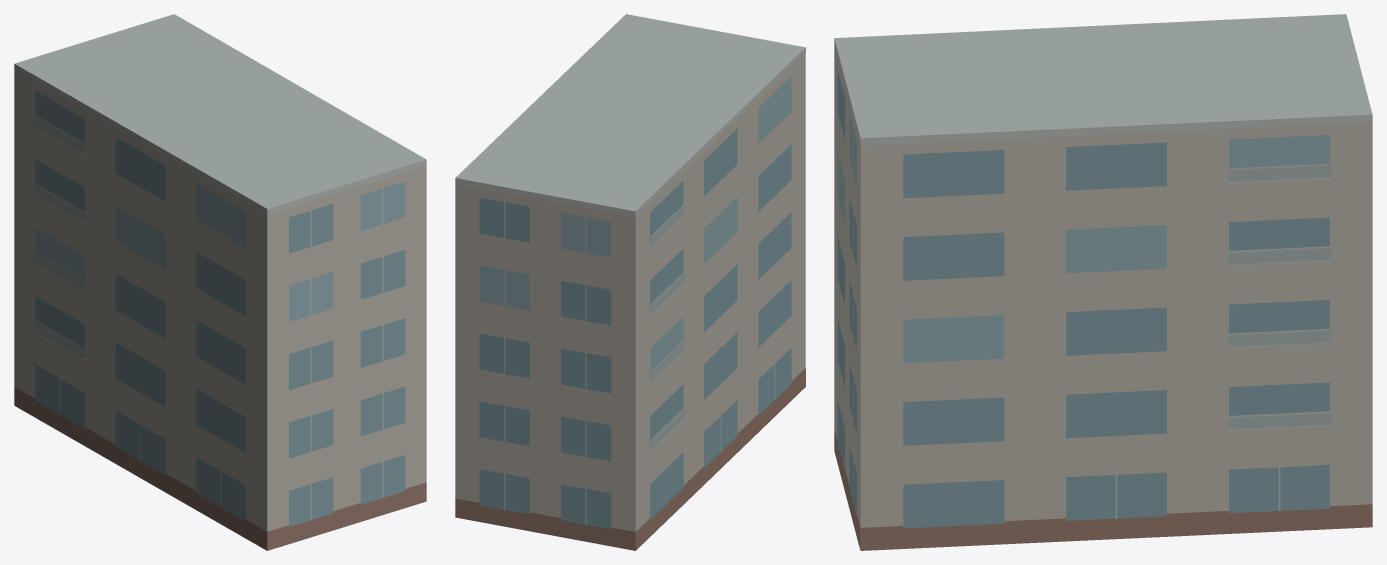
The model's file is survey-upis-32636855.glb.
The picture shows the model from 3 angles, left to right: view 1: azimuth 30°, elevation 25°; view 2: azimuth 150°, elevation 25°; view 3: azimuth 270°, elevation 25°; orthographic projection. The views are drawn at different scales.
Visible parts, largest first — view 1: survey-upis-32636855.tmp; view 2: survey-upis-32636855.tmp; view 3: survey-upis-32636855.tmp.
Part boxes in pixels (x1,y1,x2,y2): survey-upis-32636855.tmp: (14, 14, 426, 550); survey-upis-32636855.tmp: (455, 14, 805, 550); survey-upis-32636855.tmp: (834, 14, 1372, 550).
Bounding box in the file's own units: 8.86 × 13.7 × 16.21.
